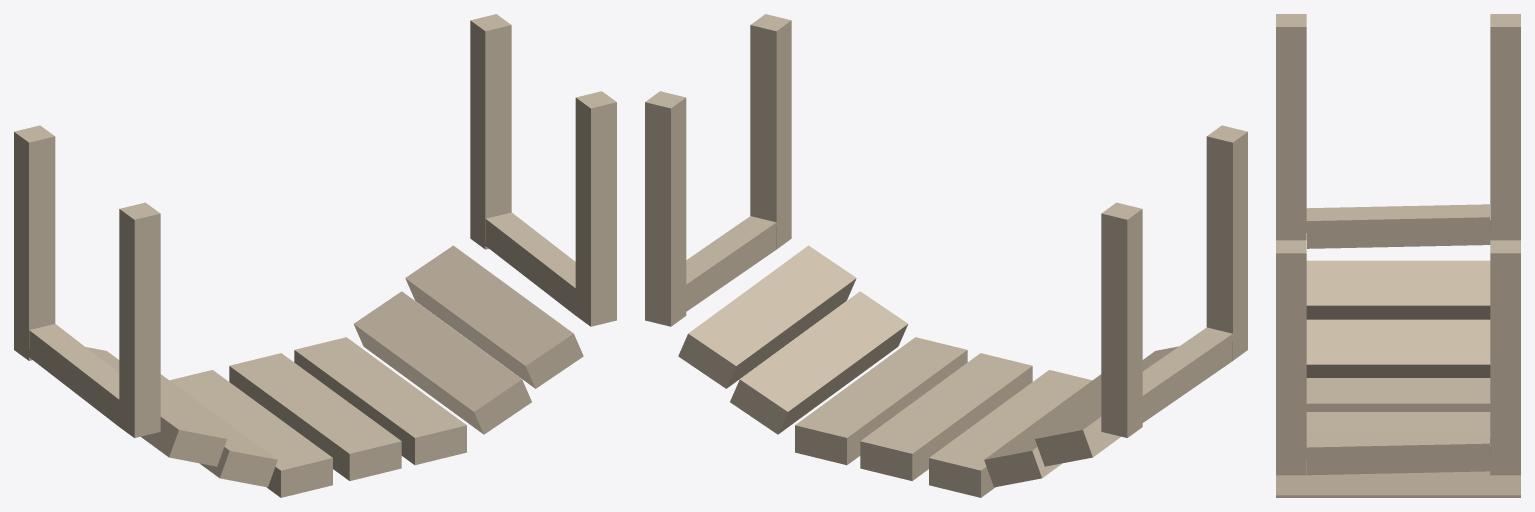
Rendered from Bridge.glb.
3 renders of one model, left to right at view 1: azimuth 30°, elevation 25°; view 2: azimuth 150°, elevation 25°; view 3: azimuth 270°, elevation 25°, orthographic.
Parts seen in each view (by area): view 1: Mesh_Mesh_head_geo.001_lambert2SG.001; view 2: Mesh_Mesh_head_geo.001_lambert2SG.001; view 3: Mesh_Mesh_head_geo.001_lambert2SG.001.
Boxes of the visible parts, x1,y1,x2,y2 form: Mesh_Mesh_head_geo.001_lambert2SG.001: (14,14,616,497); Mesh_Mesh_head_geo.001_lambert2SG.001: (645,14,1247,497); Mesh_Mesh_head_geo.001_lambert2SG.001: (1276,14,1520,497).
Bounding box in the file's own units: 58.74 × 36.51 × 25.4.
